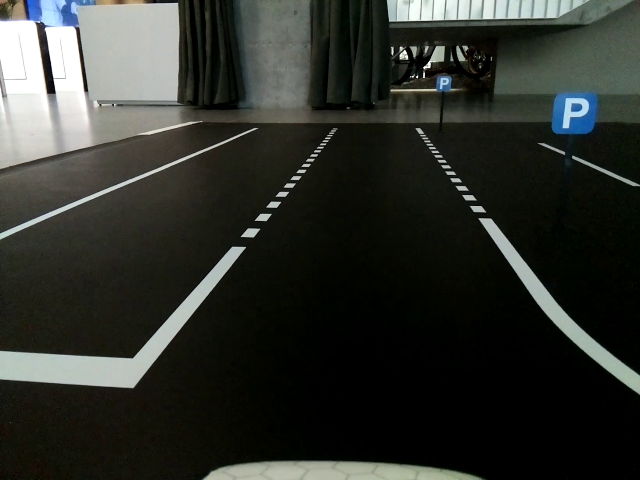park: (553, 93, 593, 134), (436, 77, 452, 92)
